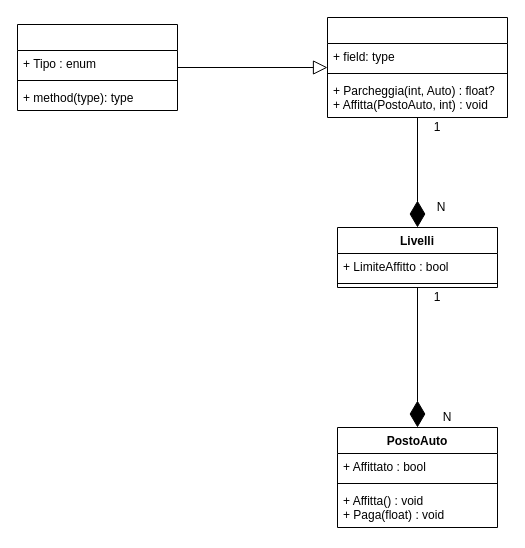
This 525x548 diagram has some shape labels left out. The box of each missing label's shape, as (x1, y1, x2, y2) in pixels:
Auto: (16, 24, 178, 110)
Garage: (326, 16, 508, 118)
